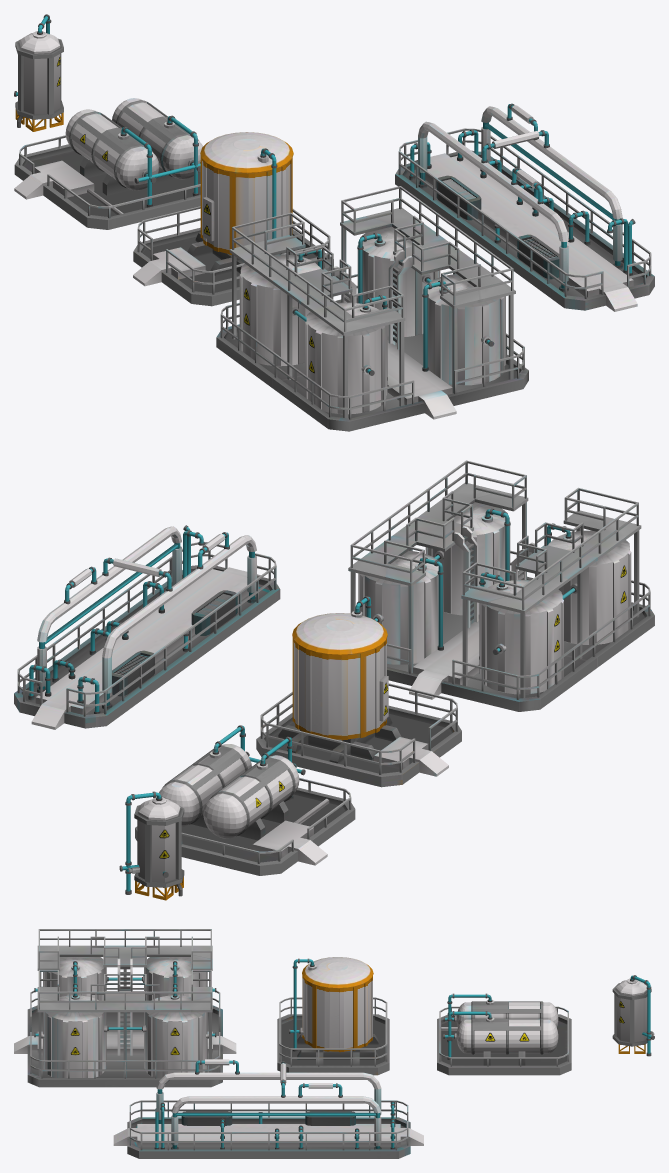
The model's file is obj_tank4.glb.
The picture shows the model from 3 angles, top to bottom: view 1: azimuth 30°, elevation 25°; view 2: azimuth 150°, elevation 25°; view 3: azimuth 270°, elevation 25°; orthographic projection. The views are drawn at different scales.
Visible parts, largest first — view 1: body|Fuel_tank_4, body|Pipe, body|Fuel_tank_2, body|Fuel_tank_3, body|Fuel_Tank_1; view 2: body|Fuel_tank_4, body|Pipe, body|Fuel_tank_3, body|Fuel_tank_2, body|Fuel_Tank_1; view 3: body|Fuel_tank_4, body|Pipe, body|Fuel_tank_3, body|Fuel_tank_2, body|Fuel_Tank_1.
Boxes of the visible parts, left/top/right/bottom form: body|Fuel_tank_4: left=216, top=186, right=528, bottom=431; body|Pipe: left=395, top=103, right=654, bottom=311; body|Fuel_tank_2: left=14, top=98, right=202, bottom=229; body|Fuel_tank_3: left=133, top=132, right=333, bottom=306; body|Fuel_Tank_1: left=14, top=14, right=63, bottom=131; body|Fuel_tank_4: left=348, top=460, right=654, bottom=711; body|Pipe: left=14, top=525, right=280, bottom=729; body|Fuel_tank_3: left=256, top=596, right=461, bottom=787; body|Fuel_tank_2: left=135, top=725, right=355, bottom=875; body|Fuel_Tank_1: left=119, top=791, right=184, bottom=900; body|Fuel_tank_4: left=14, top=929, right=236, bottom=1087; body|Pipe: left=113, top=1059, right=423, bottom=1158; body|Fuel_tank_3: left=277, top=957, right=389, bottom=1075; body|Fuel_tank_2: left=437, top=993, right=571, bottom=1075; body|Fuel_Tank_1: left=612, top=975, right=654, bottom=1056.
Bounding box in the file's own units: 30.27 × 9.22 × 55.93.
5 materials, 5 textured.
